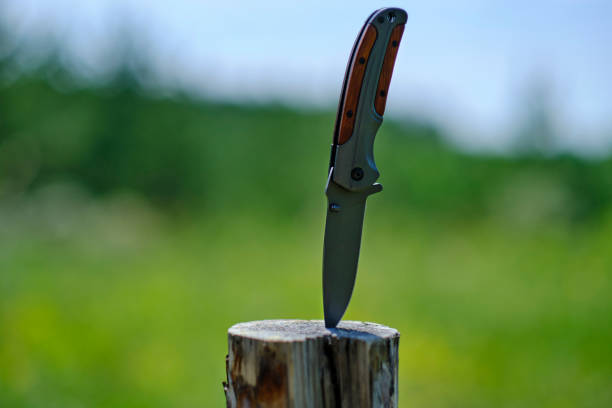knife: (321, 6, 409, 331)
